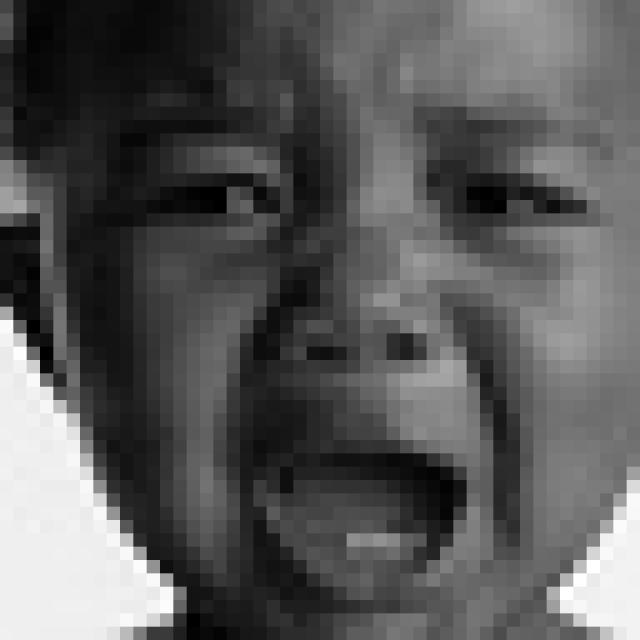sad: (116, 70, 607, 607)
